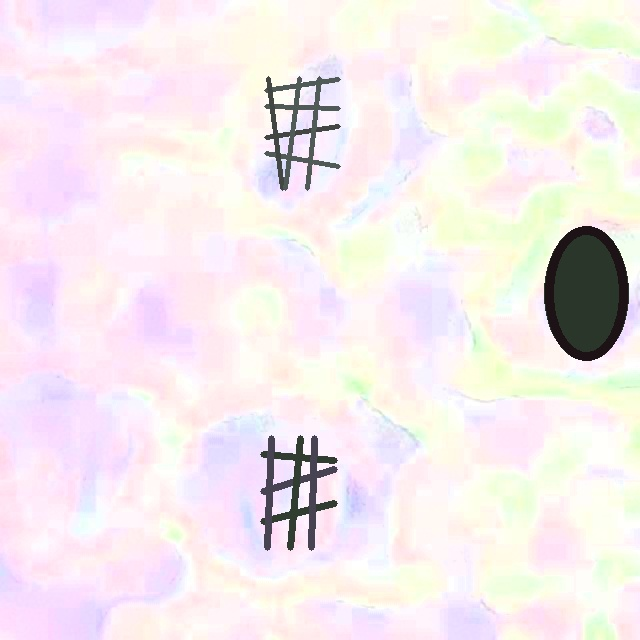close: (544, 226, 629, 360), (260, 435, 337, 550)
open: (264, 76, 339, 190)
